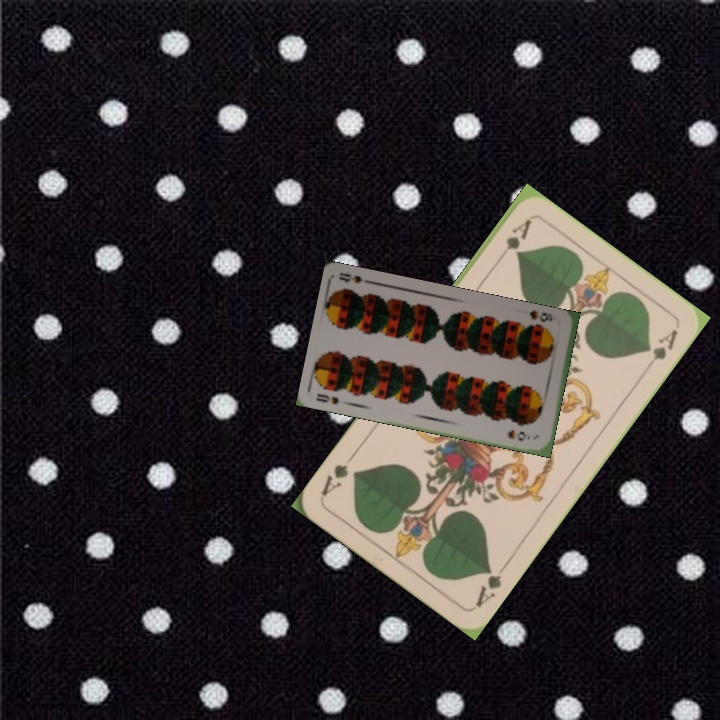GA: (492, 215, 534, 266), (471, 558, 511, 611)
S8: (525, 306, 555, 325), (312, 389, 342, 407)
